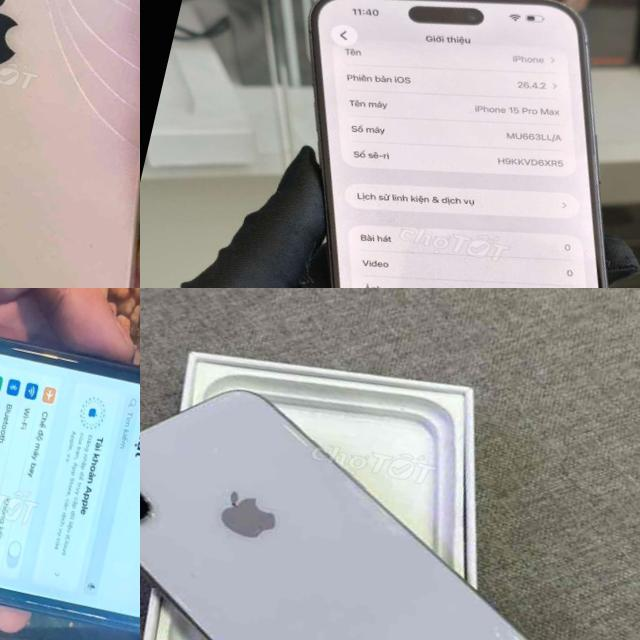gen_11: (0, 338, 140, 628)
gen_15: (207, 0, 640, 288)
gen_x_xs: (140, 335, 640, 640)
